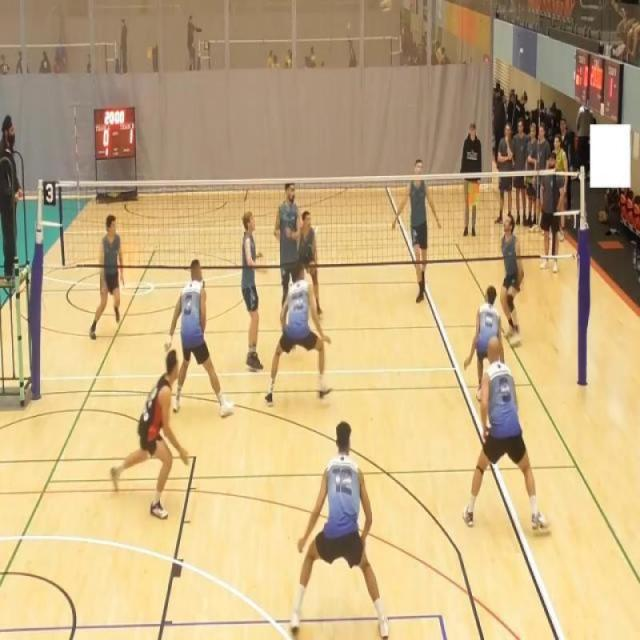volleyball: (379, 0, 392, 12)
